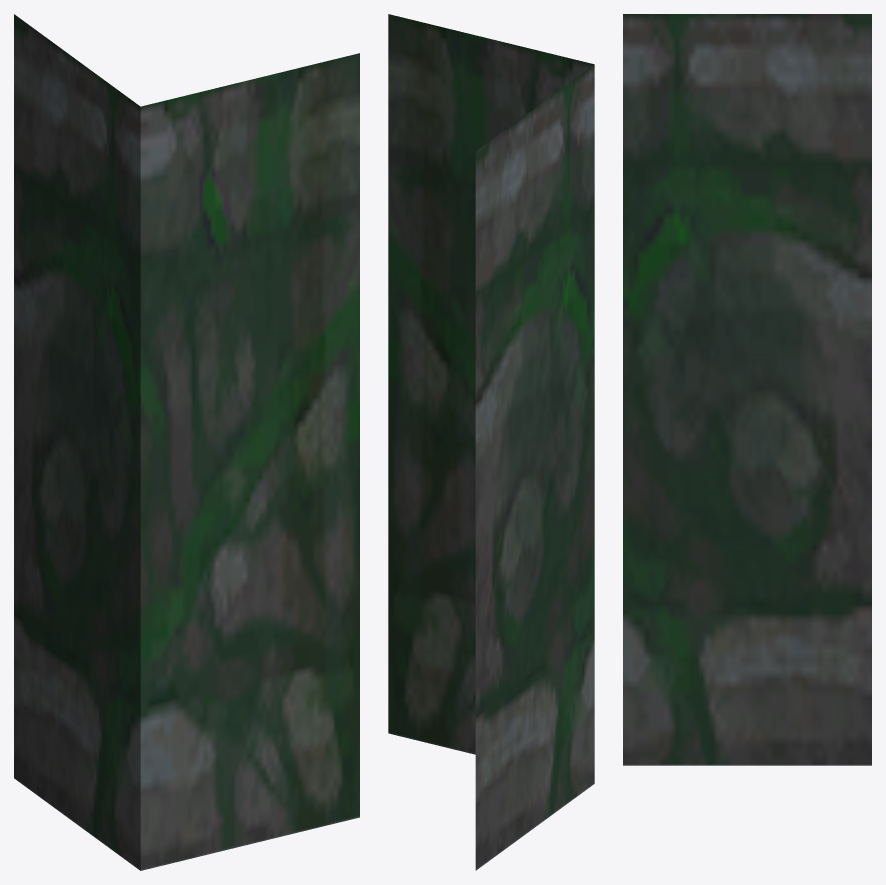
The model's file is stemple_quarter_convex_02.fbx.
3 views of the same model, side by side, from view 1: azimuth 30°, elevation 25°; view 2: azimuth 150°, elevation 25°; view 3: azimuth 270°, elevation 25° (orthographic). The views are drawn at different scales.
Parts seen in each view (by area): view 1: sunken_tileset/sunken_wall_straight02_mat; view 2: sunken_tileset/sunken_wall_straight02_mat; view 3: sunken_tileset/sunken_wall_straight02_mat.
Part boxes in pixels (bbox=[...]): sunken_tileset/sunken_wall_straight02_mat: bbox=[14, 14, 359, 870]; sunken_tileset/sunken_wall_straight02_mat: bbox=[388, 14, 594, 870]; sunken_tileset/sunken_wall_straight02_mat: bbox=[623, 14, 871, 765].
Bounding box in the file's own units: 0.4128 × 1.38 × 0.4126.
